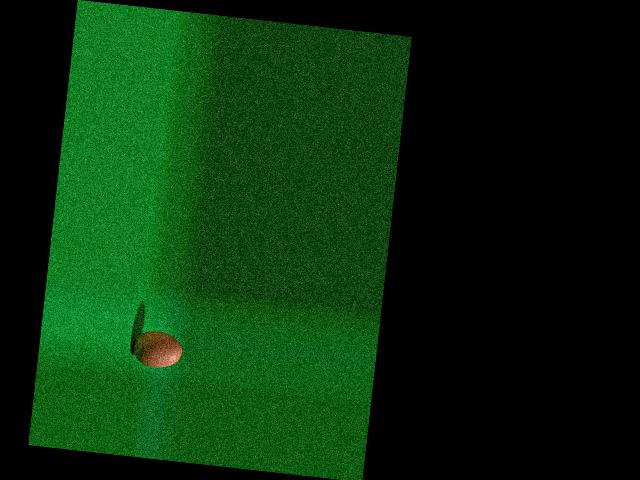egg: (131, 328, 183, 370)
